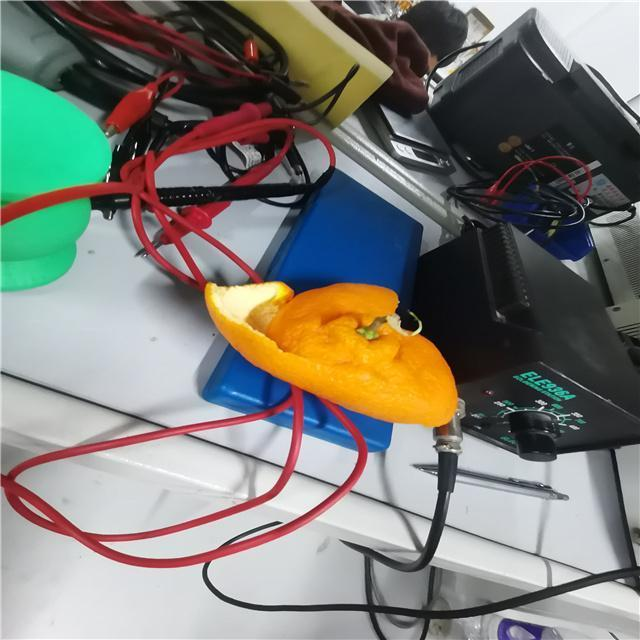orange peel: (187, 244, 470, 450)
